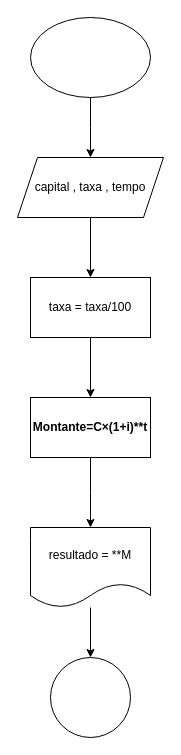
Some shapes in this 181 by 755 pixel diagram are drawn without their labels. The shapes that lost their labels are listed below. From the top down, each one's centre as x and y in pixels, then its label:
At point (90, 57): "inicio".
At point (90, 697): "fim".
